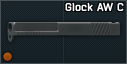Glock 9x19 Alpha Wolf custom pistol slide: (0, 0, 127, 64)
